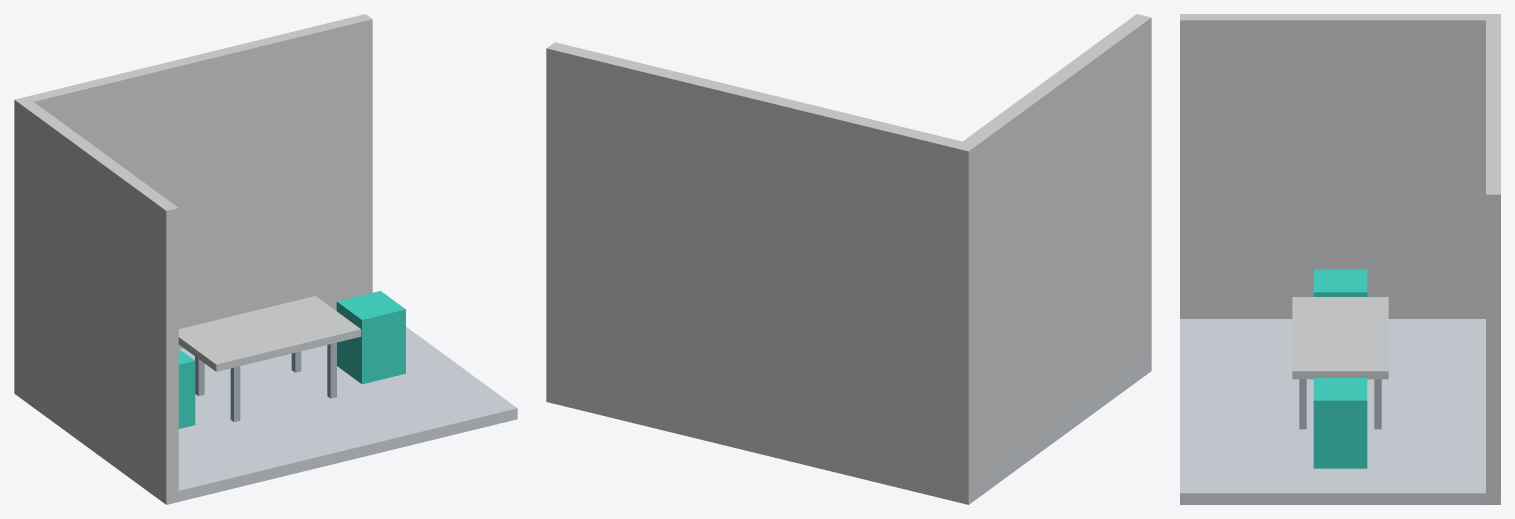
The picture shows the model from 3 angles, left to right: view 1: azimuth 30°, elevation 25°; view 2: azimuth 150°, elevation 25°; view 3: azimuth 270°, elevation 25°; orthographic projection. The views are drawn at different scales.
Visible parts, largest first — view 1: Exhibition Booth Concept; view 2: Exhibition Booth Concept; view 3: Exhibition Booth Concept.
Part boxes in pixels (<box>): Exhibition Booth Concept: <box>14,14,517,504</box>; Exhibition Booth Concept: <box>546,14,1151,504</box>; Exhibition Booth Concept: <box>1180,14,1500,504</box>.
Size of the model in its own units: 4 by 3.2 by 3.
